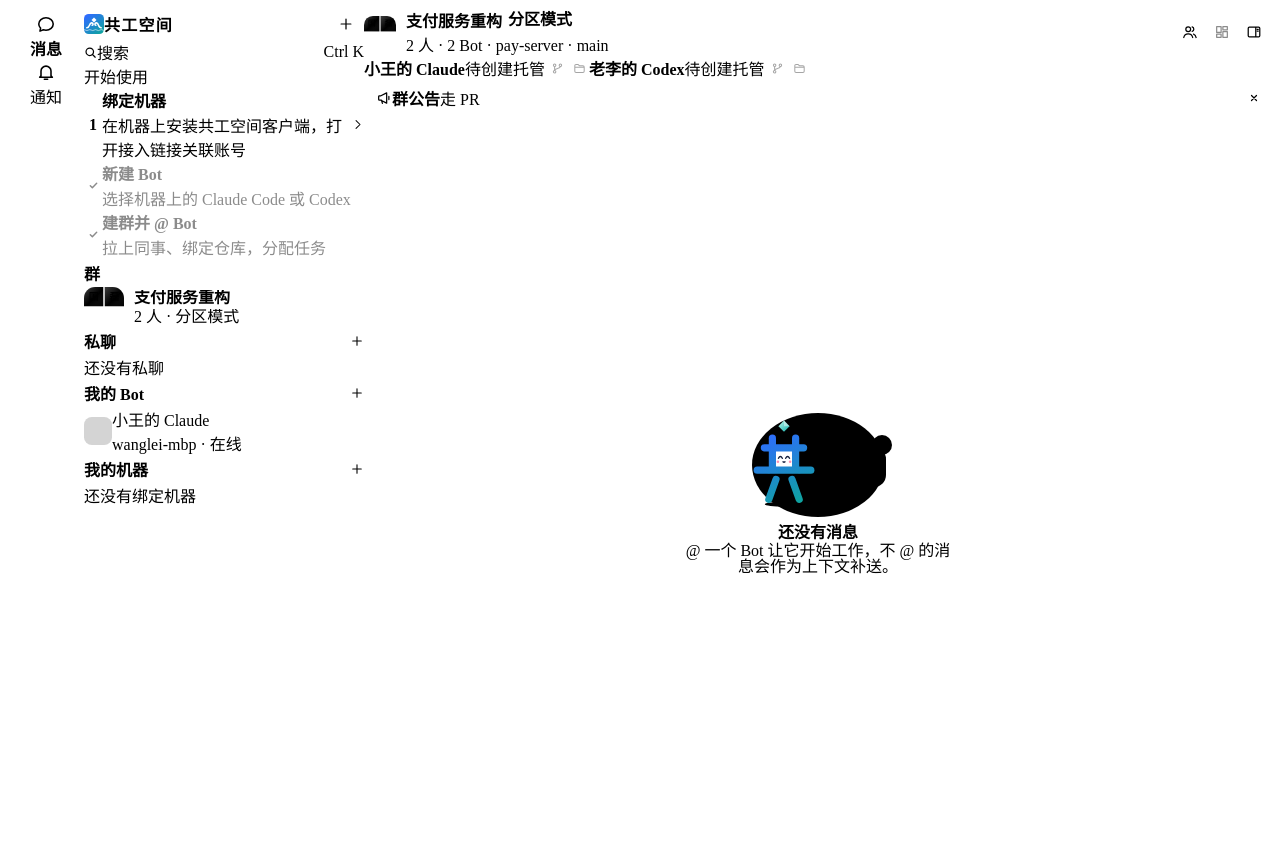
Test: group settings inspector › lets a member hide the notice for themselves and bring it back from the history
This screenshot has width=1280, height=862.
Click the button named "不再显示" at (1254,98), box [1242,86,1266,110]
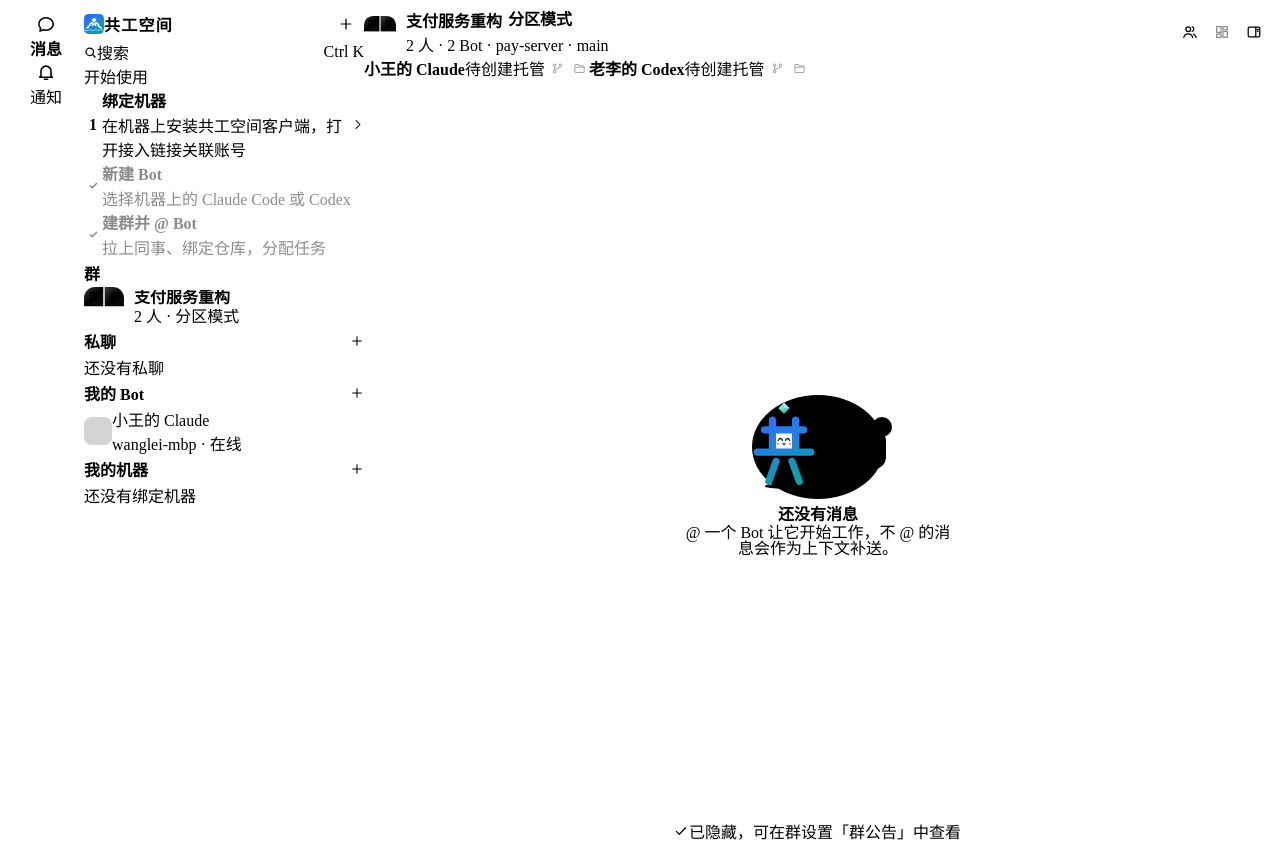
Result: the element with test id "group-notice" is gone
Click the button named "群设置" at (1254,32), box [1238,18,1270,46]
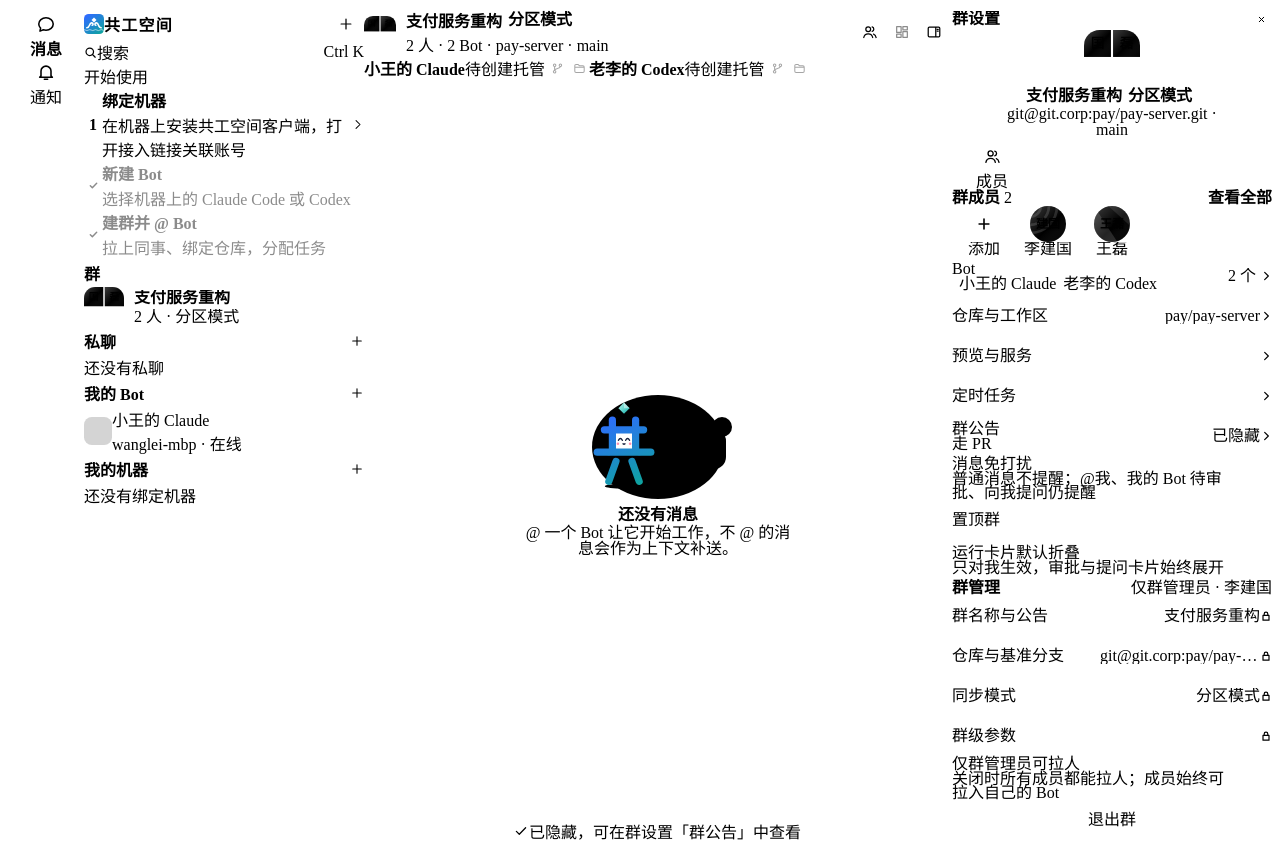
Click the button "群公告 走 PR 已隐藏" at (976,428), box [952,416,1272,456]
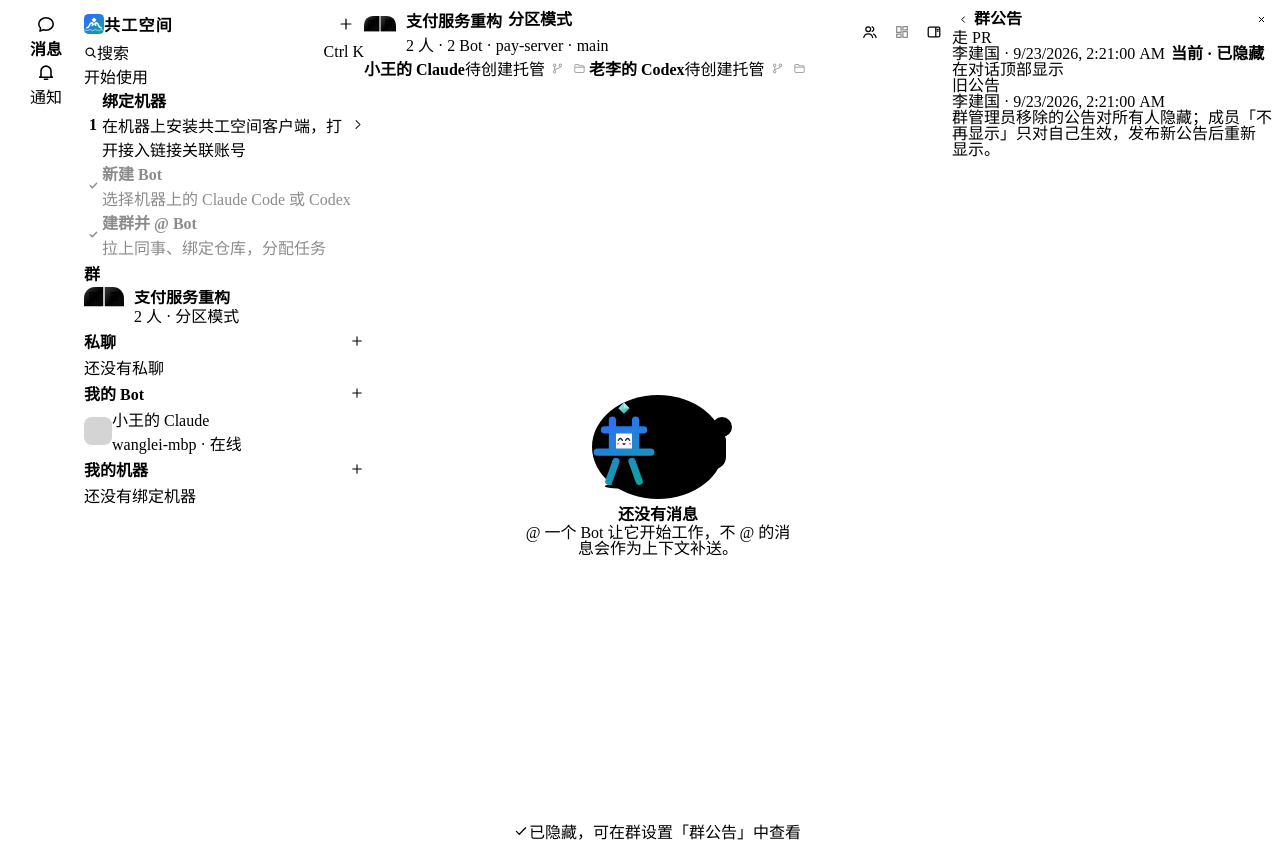
Result: the text "旧公告" is shown at [952,77,1000,94]
Click the button "在对话顶部显示" at (1008,70), box [952,62,1064,78]
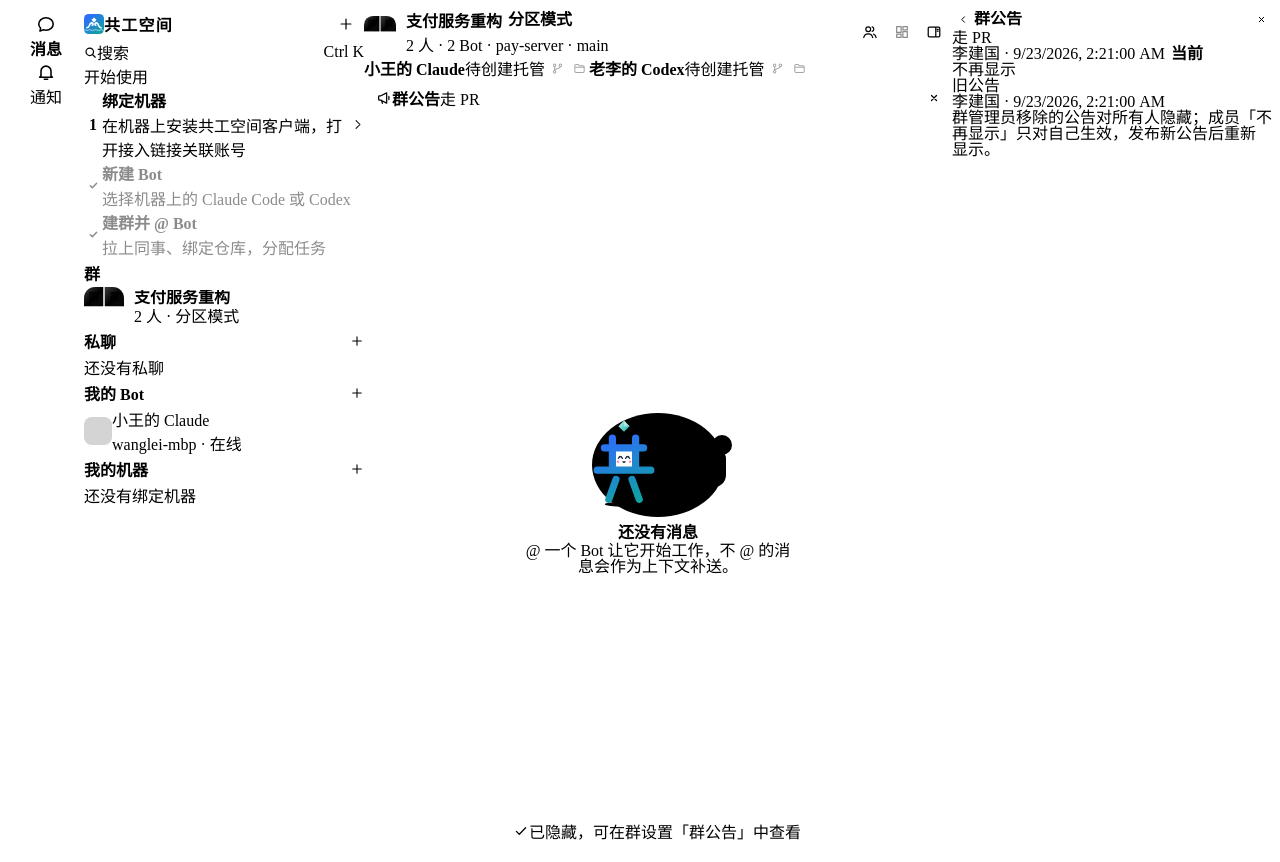
Result: the element with test id "group-notice" is shown at [364,80,952,116]
